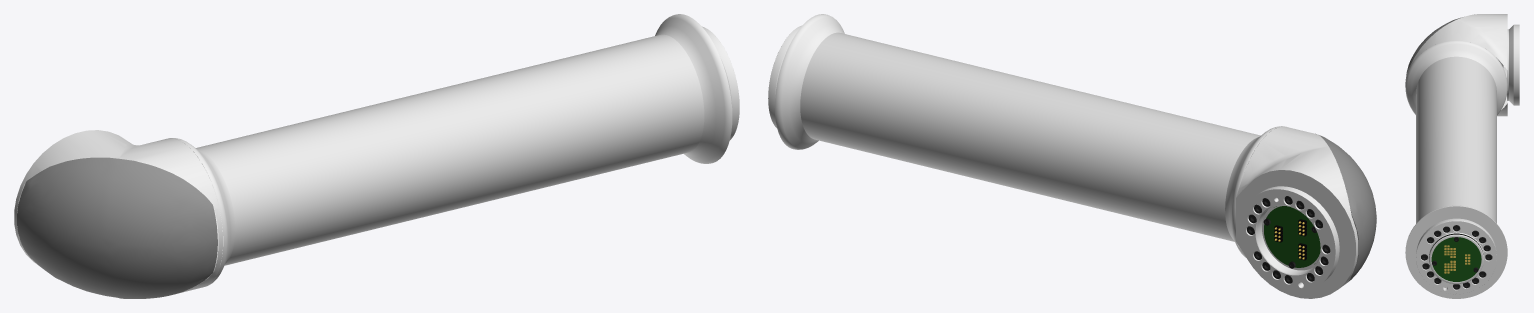
3 renders of one model, left to right at view 1: azimuth 30°, elevation 25°; view 2: azimuth 150°, elevation 25°; view 3: azimuth 270°, elevation 25°, orthographic. The views are drawn at different scales.
Visible parts, largest first — view 1: L86.001; view 2: L86.001; view 3: L86.001.
Part boxes in pixels (x1,y1,x2,y2): L86.001: [14, 14, 739, 298]; L86.001: [768, 14, 1376, 298]; L86.001: [1405, 14, 1519, 298].
Bounding box in the file's own units: 0.4309 × 0.0861 × 0.0961.
